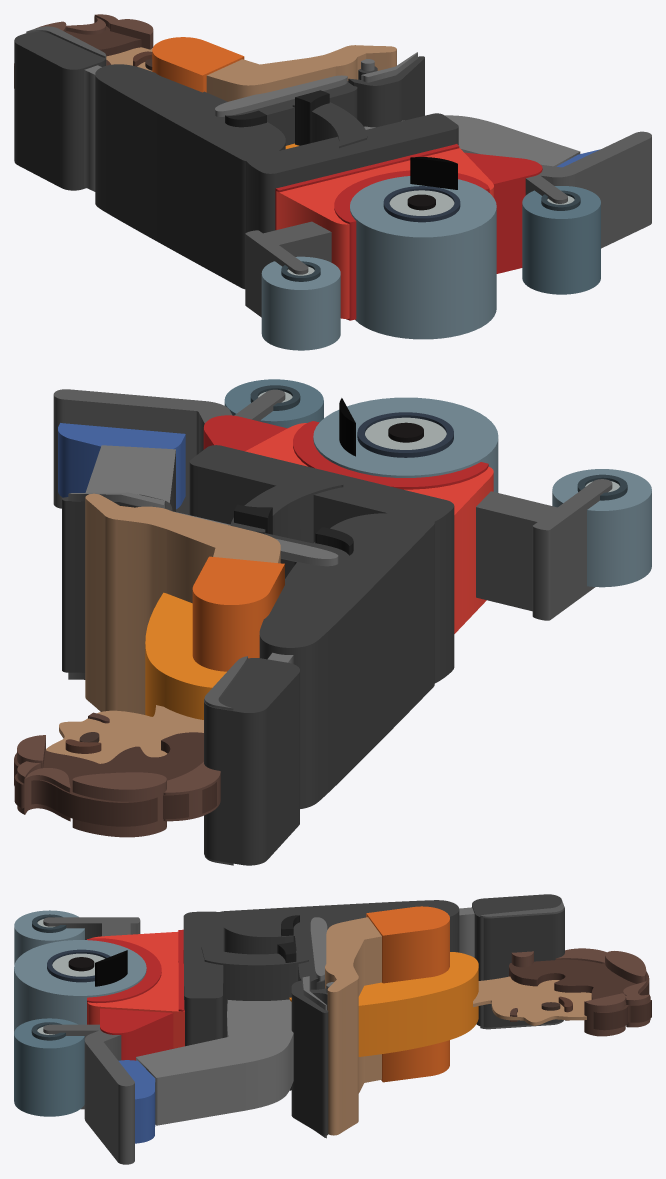
The model's file is emoji_u1f9d1_1f3fd_200d_1f9bc_200d_27a1.glb.
3 renders of one model, top to bottom at view 1: azimuth 30°, elevation 25°; view 2: azimuth 150°, elevation 25°; view 3: azimuth 270°, elevation 25°, orthographic. The views are drawn at different scales.
Parts seen in each view (by area): view 1: emoji_u1f9d1_1f3fd_200d_1f9bc_200d_27a1; view 2: emoji_u1f9d1_1f3fd_200d_1f9bc_200d_27a1; view 3: emoji_u1f9d1_1f3fd_200d_1f9bc_200d_27a1.
Boxes of the visible parts, x1,y1,x2,y2 form: emoji_u1f9d1_1f3fd_200d_1f9bc_200d_27a1: [14, 14, 651, 350]; emoji_u1f9d1_1f3fd_200d_1f9bc_200d_27a1: [14, 379, 651, 865]; emoji_u1f9d1_1f3fd_200d_1f9bc_200d_27a1: [14, 894, 651, 1164].
Size of the model in its own units: 0.0236 by 0.0086 by 0.0339.
